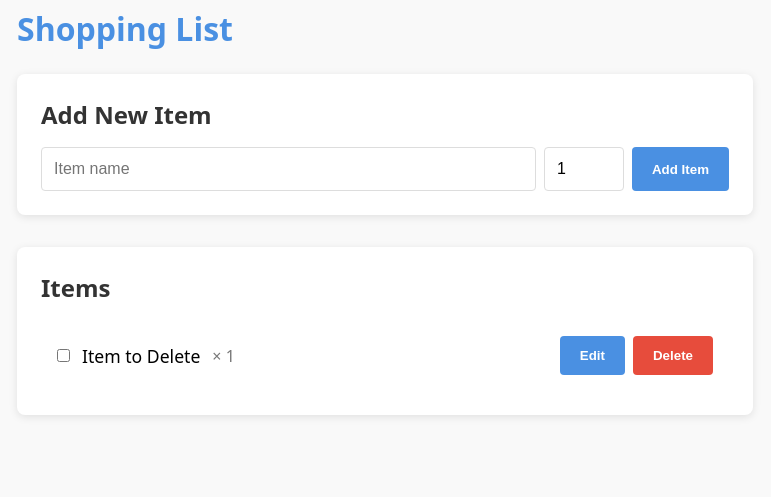
Test case: App Component - Error Handling Tests › handles error when deleting an item
Expected: the text "Item to Delete" is shown, [82,344,200,368]
Click delete button
Click the button "Delete" at (673, 356), box [633,336,713,375]
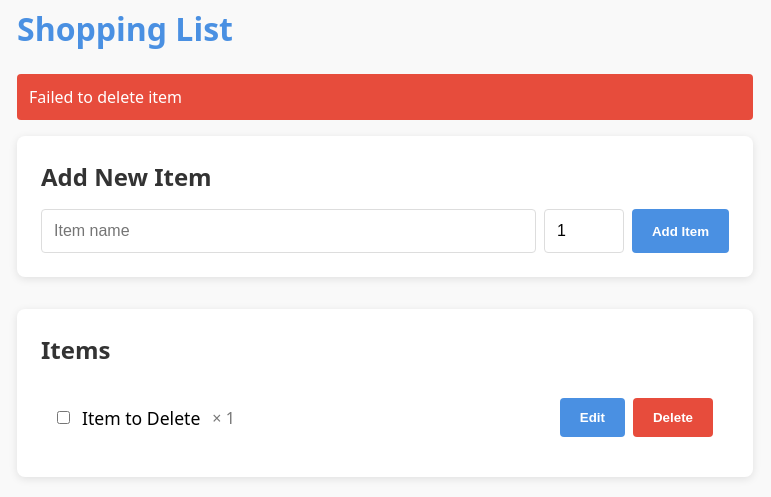
Result: the text "Failed to delete item" is shown at [17,74,753,120]
